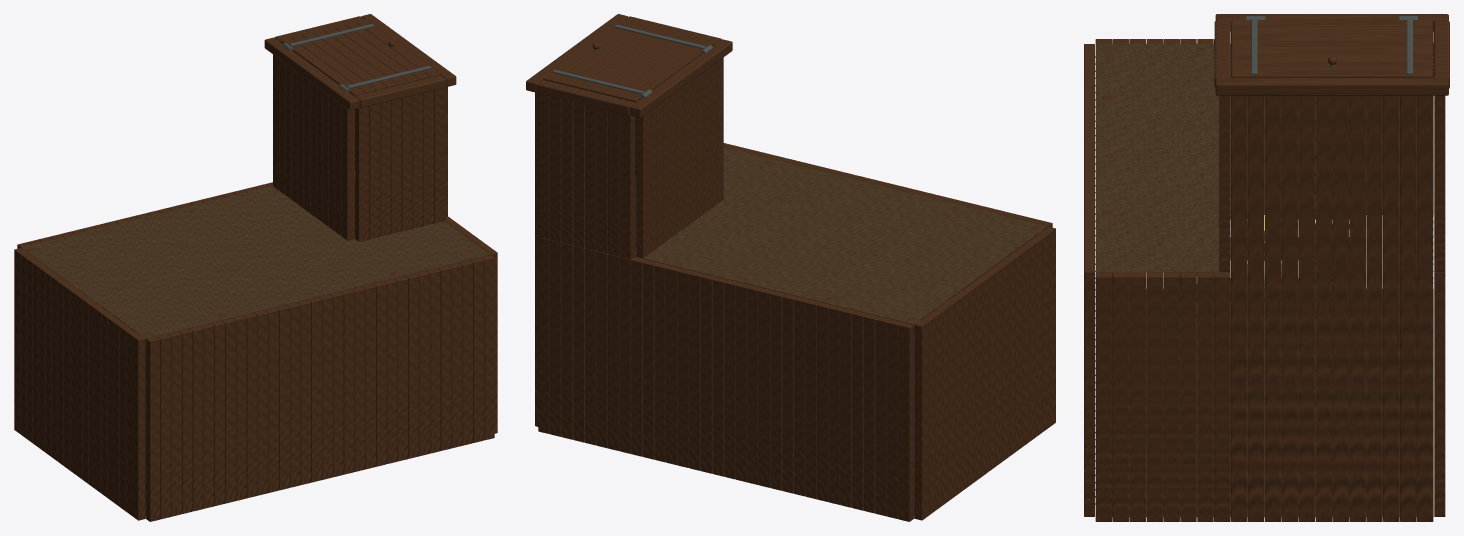
File: NightStore.fbx
3 renders of one model, left to right at view 1: azimuth 30°, elevation 25°; view 2: azimuth 150°, elevation 25°; view 3: azimuth 270°, elevation 25°, orthographic. The views are drawn at different scales.
Visible parts, largest first — view 1: WallBack, WallEast, EarthCeilingMain, EarthCeilingBack, ShaftBack, ShaftEast, HatchLeaf, HatchFrame, WallFront, WallWestBack, Supports; view 2: WallFront, WallEast, EarthCeilingMain, EarthCeilingBack, ShaftFront, ShaftEast, HatchLeaf, HatchFrame, WallBack, WallWest, Supports; view 3: WallWest, WallWestBack, EarthCeilingBack, HatchLeaf, HatchFrame, WallBack, EarthFloor, WallFront, ShaftFront, ShaftBack, EarthCeilingMain, Supports (+2 smaller).
Boxes of the visible parts, x1,y1,x2,y2 form: WallBack: (146, 255, 494, 521); WallEast: (14, 248, 144, 520); EarthCeilingMain: (21, 186, 353, 301); EarthCeilingBack: (96, 221, 490, 338); ShaftBack: (355, 88, 444, 241); ShaftEast: (273, 54, 353, 240); HatchLeaf: (280, 19, 440, 96); HatchFrame: (264, 14, 456, 110); WallFront: (17, 165, 355, 306); WallWestBack: (445, 216, 497, 433); Supports: (25, 170, 487, 515); WallFront: (538, 237, 913, 521); WallEast: (915, 227, 1055, 520); EarthCeilingMain: (636, 199, 994, 324); EarthCeilingBack: (635, 147, 1047, 265); ShaftFront: (538, 93, 634, 259); ShaftEast: (636, 57, 723, 257); HatchLeaf: (543, 20, 715, 102); HatchFrame: (526, 14, 732, 117); WallBack: (723, 143, 1052, 290); WallWest: (535, 92, 538, 426); Supports: (635, 161, 1043, 515); WallWest: (1231, 95, 1433, 521); WallWestBack: (1095, 272, 1230, 521); EarthCeilingBack: (1095, 43, 1230, 272); HatchLeaf: (1231, 16, 1432, 77); HatchFrame: (1214, 14, 1449, 95); WallBack: (1084, 44, 1095, 516); EarthFloor: (1112, 289, 1433, 517); WallFront: (1433, 221, 1445, 516); ShaftFront: (1433, 42, 1445, 271); ShaftBack: (1219, 95, 1230, 271); EarthCeilingMain: (1230, 44, 1433, 214); Supports: (1102, 45, 1416, 515).
Bounding box in the file's own units: 8.41 × 7.4 × 5.41.
